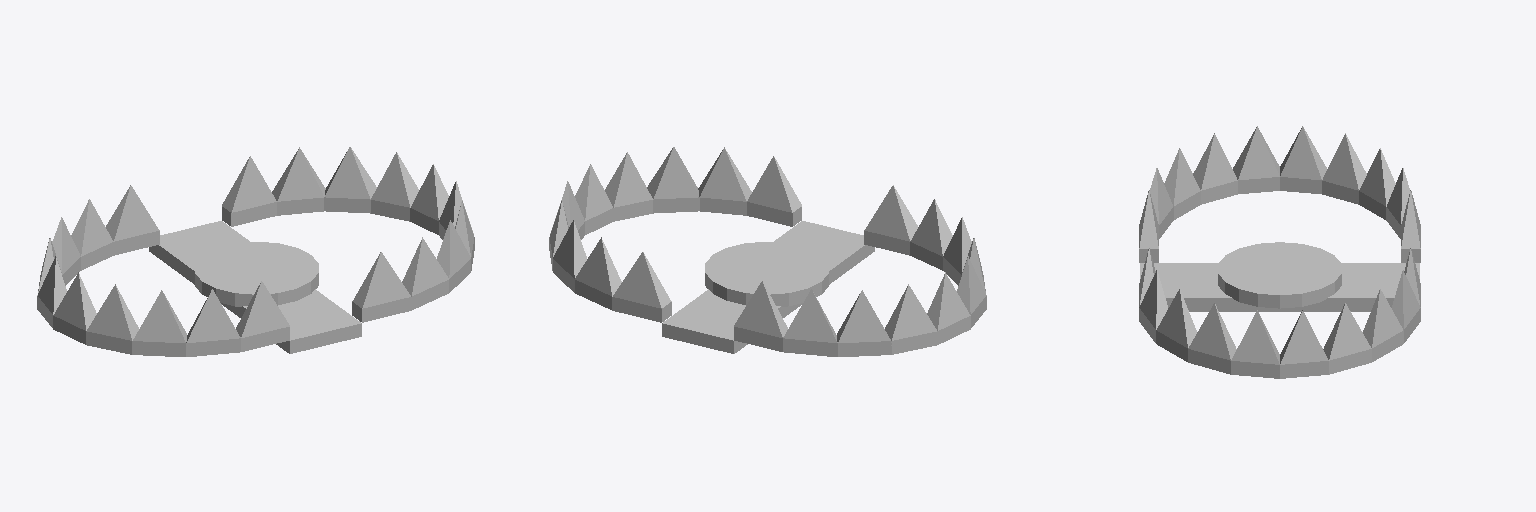
File: Trampa.obj
3 renders of one model, left to right at view 1: azimuth 30°, elevation 25°; view 2: azimuth 150°, elevation 25°; view 3: azimuth 270°, elevation 25°, orthographic.
Visible parts, largest first — view 1: Cylinder002, Cylinder001, Box003; view 2: Cylinder002, Cylinder001, Box003; view 3: Cylinder002, Cylinder001, Box003.
Part boxes in pixels (left/top/right/bottom): Cylinder002: left=222, top=147, right=474, bottom=322; Cylinder001: left=37, top=185, right=289, bottom=356; Box003: left=149, top=221, right=361, bottom=353; Cylinder002: left=549, top=147, right=801, bottom=322; Cylinder001: left=734, top=185, right=986, bottom=356; Box003: left=662, top=221, right=874, bottom=353; Cylinder002: left=1139, top=248, right=1420, bottom=378; Cylinder001: left=1139, top=126, right=1420, bottom=262; Box003: left=1140, top=242, right=1419, bottom=311.
Bounding box in the file's own units: 445 × 80.02 × 268.